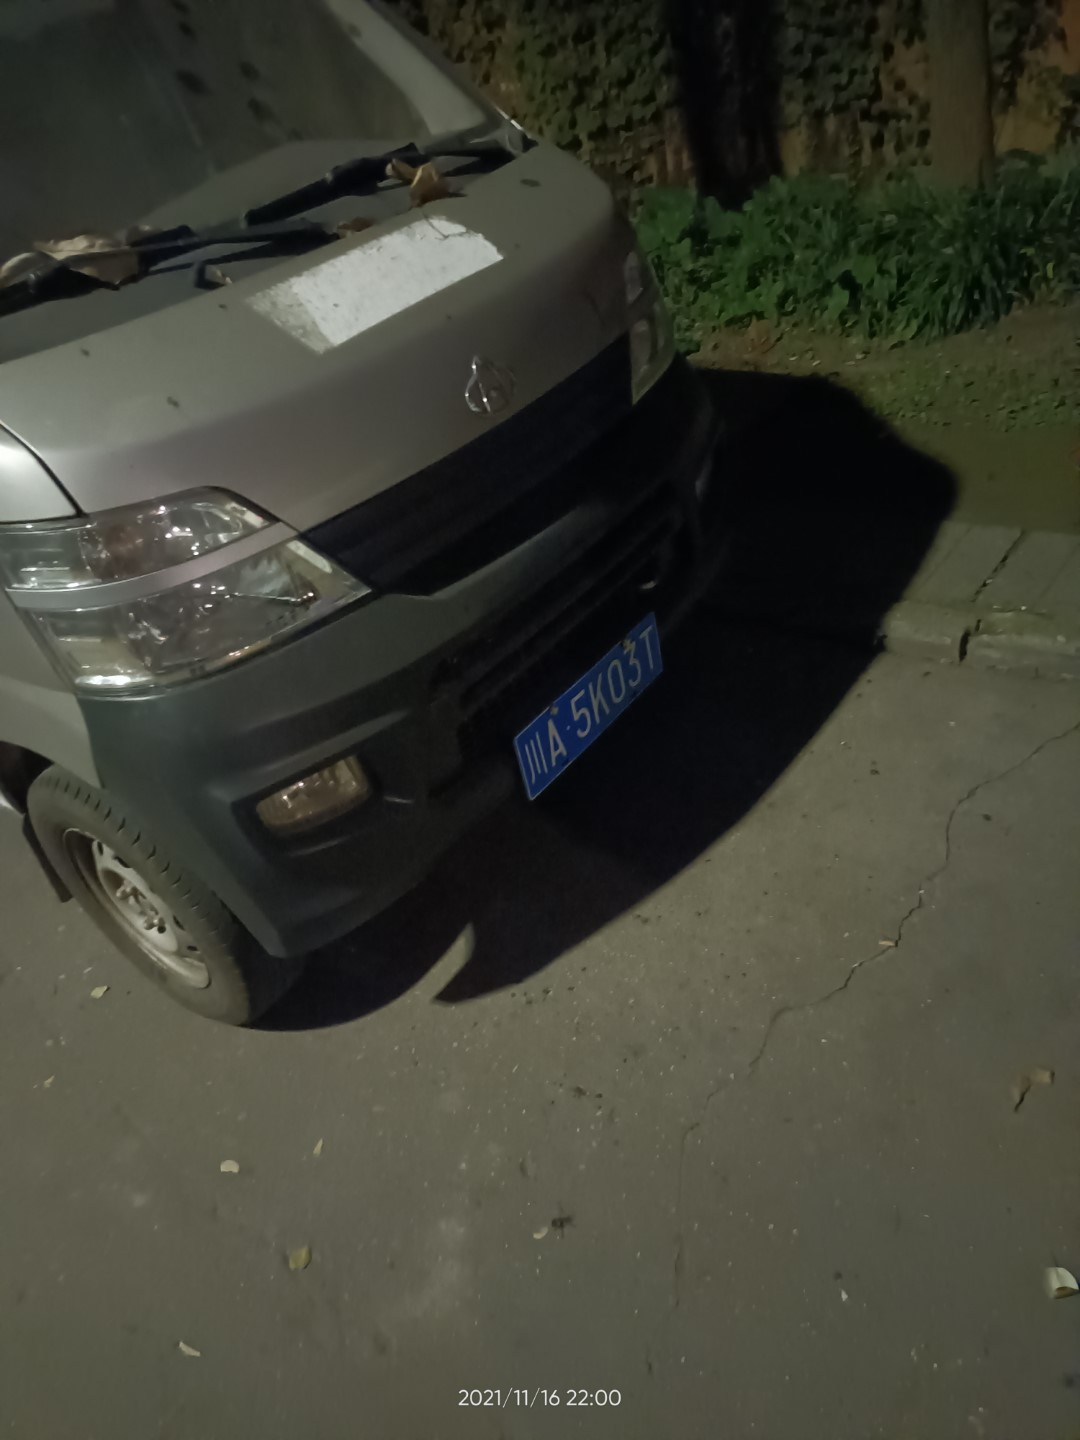plate: (511, 611, 666, 805)
